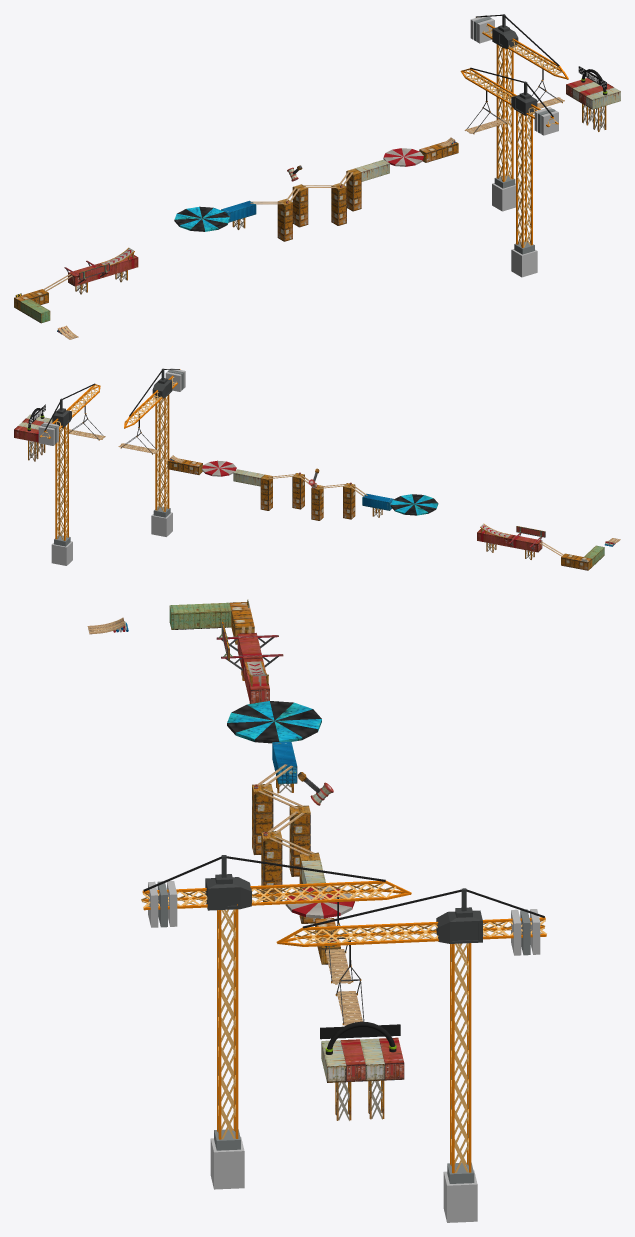
File: 24_Parkour.fbx
The picture shows the model from 3 angles, top to bottom: view 1: azimuth 30°, elevation 25°; view 2: azimuth 150°, elevation 25°; view 3: azimuth 270°, elevation 25°; orthographic projection. The views are drawn at different scales.
Visible parts, largest first — view 1: Crane, Crane__1_, TurningPlatform, stcontainerorange__2_, stcontainerorange__1_, stcontainerorange__3_, TurningPlatformFast, stcontainerorange__4_, stcontainerorange__5_, stcontainerwhite__2_, stcontainergreentwo, stcontainerwhite__1_ (+1 smaller); view 2: Crane, Crane__1_, TurningPlatform, TurningPlatformFast, stcontainerorange__4_, stcontainerorange__3_, stcontainerorange__1_, stcontainerorange__2_, stcontainerorange__5_, stcontainerorange, stcontainerred__4_, stcontainerblue (+3 smaller); view 3: Crane, Crane__1_, TurningPlatform, stcontainergreentwo, finishObject, stcontainerorange__3_, stcontainerorange__1_, TurningPlatformFast, stcontainerorange__2_, stcontainerblue, stcontainerwhite__2_, stcontainerred__6_ (+1 smaller).
Boxes of the visible parts, x1,y1,x2,y2 form: Crane: (460,67,558,277); Crane__1_: (470,14,568,211); TurningPlatform: (174,206,229,231); stcontainerorange__2_: (292,184,308,227); stcontainerorange__1_: (277,198,292,241); stcontainerorange__3_: (331,183,346,225); TurningPlatformFast: (383,148,423,166); stcontainerorange__4_: (346,168,361,211); stcontainerorange__5_: (419,141,458,162); stcontainerwhite__2_: (586,87,620,109); stcontainergreentwo: (20,299,50,323); stcontainerwhite__1_: (355,159,389,181); Crane: (124,368,185,536); Crane__1_: (38,383,100,565); TurningPlatform: (390,494,438,515); TurningPlatformFast: (202,460,236,476); stcontainerorange__4_: (260,474,272,510); stcontainerorange__3_: (292,473,304,509); stcontainerorange__1_: (343,483,355,519); stcontainerorange__2_: (311,485,323,520); stcontainerorange__5_: (167,458,202,474); stcontainerorange: (561,553,592,570); stcontainerred__4_: (510,535,542,552); stcontainerblue: (362,493,393,510); Crane: (141,855,411,1189); Crane__1_: (276,888,546,1222); TurningPlatform: (227,701,321,743); stcontainergreentwo: (169,602,231,629); finishObject: (320,1021,400,1054); stcontainerorange__3_: (261,831,282,901); stcontainerorange__1_: (252,784,273,854); TurningPlatformFast: (285,886,354,918); stcontainerorange__2_: (289,805,310,876); stcontainerblue: (272,741,297,784); stcontainerwhite__2_: (321,1040,346,1082); stcontainerred__6_: (340,1039,365,1081).
Size of the model in its own units: 34423 by 10173 by 12715.
